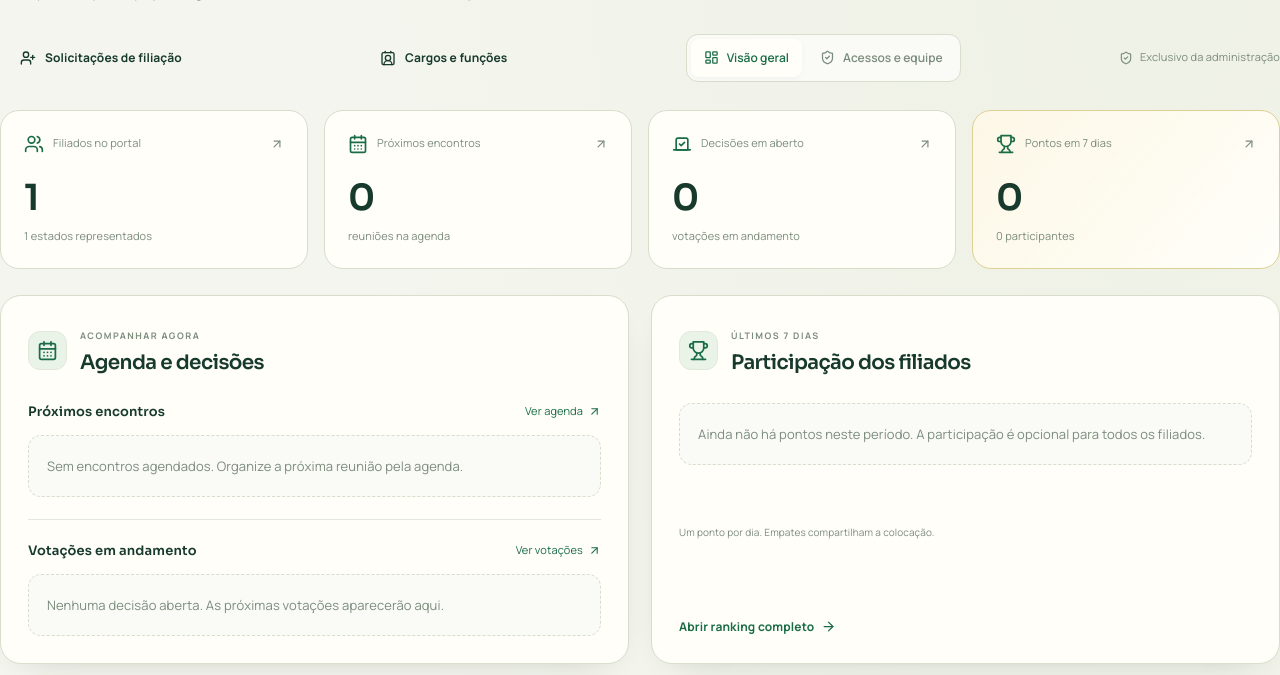
Test case: visão geral reúne ferramentas e permite revisar uma conta sem conceder administração antes de confirmar
Check: the heading "Agenda e decisões" is shown, box [80,348,264,378]
Click the button "Acessos e equipe": coordinates (881, 58) [807,39,956,77]
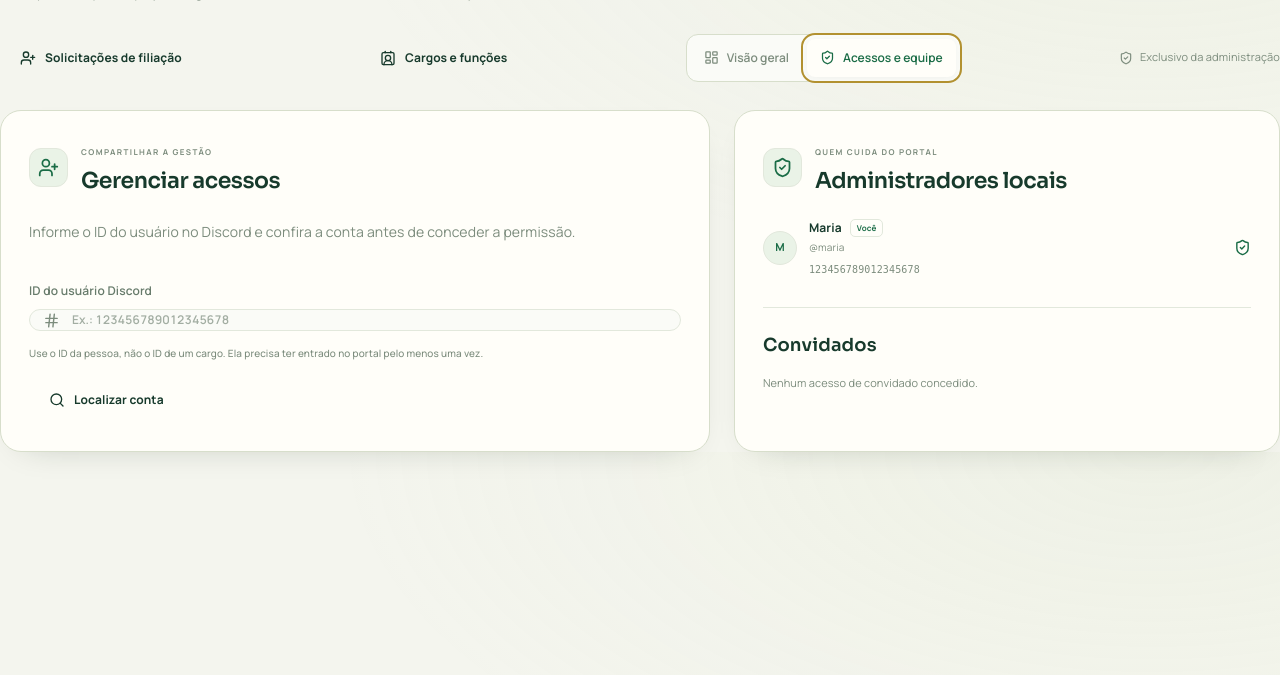
Check: the button "Localizar conta" is enabled, box [29,377,184,423]
In the field labelled "ID do usuário Discord": coordinates (375, 320) [70,310,680,330], type "223456789012345678"
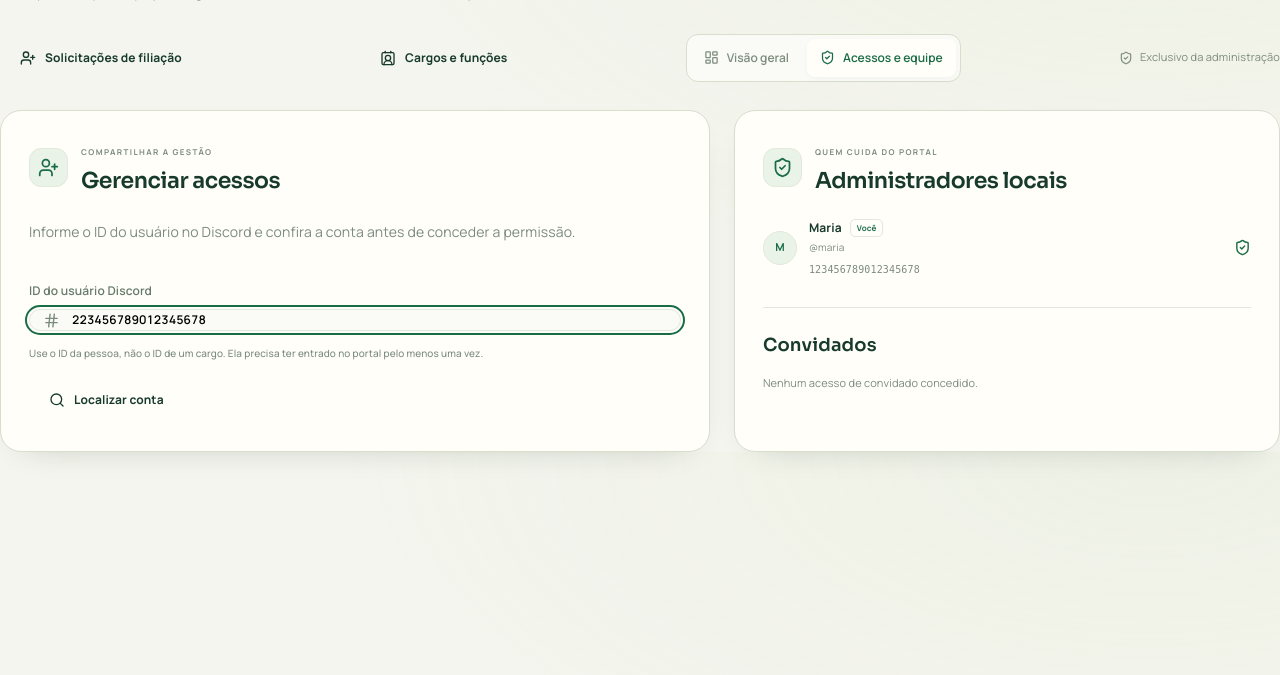
Click the button "Localizar conta": coordinates (106, 400) [29,377,184,423]
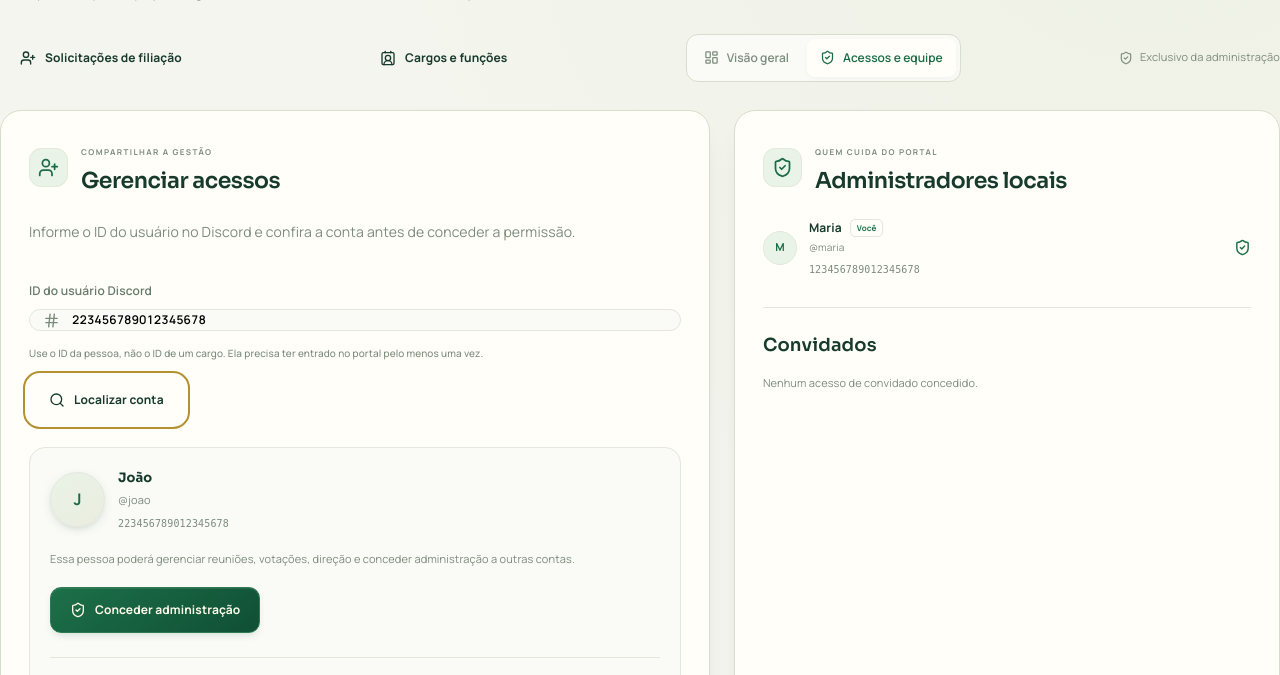
Check: the text "João" is shown, box [118,469,152,486]
Check: the button "Conceder administração" is shown, box [50,587,260,633]
Click the button "Visão geral": coordinates (746, 58) [691,39,802,77]
(page scrolled)
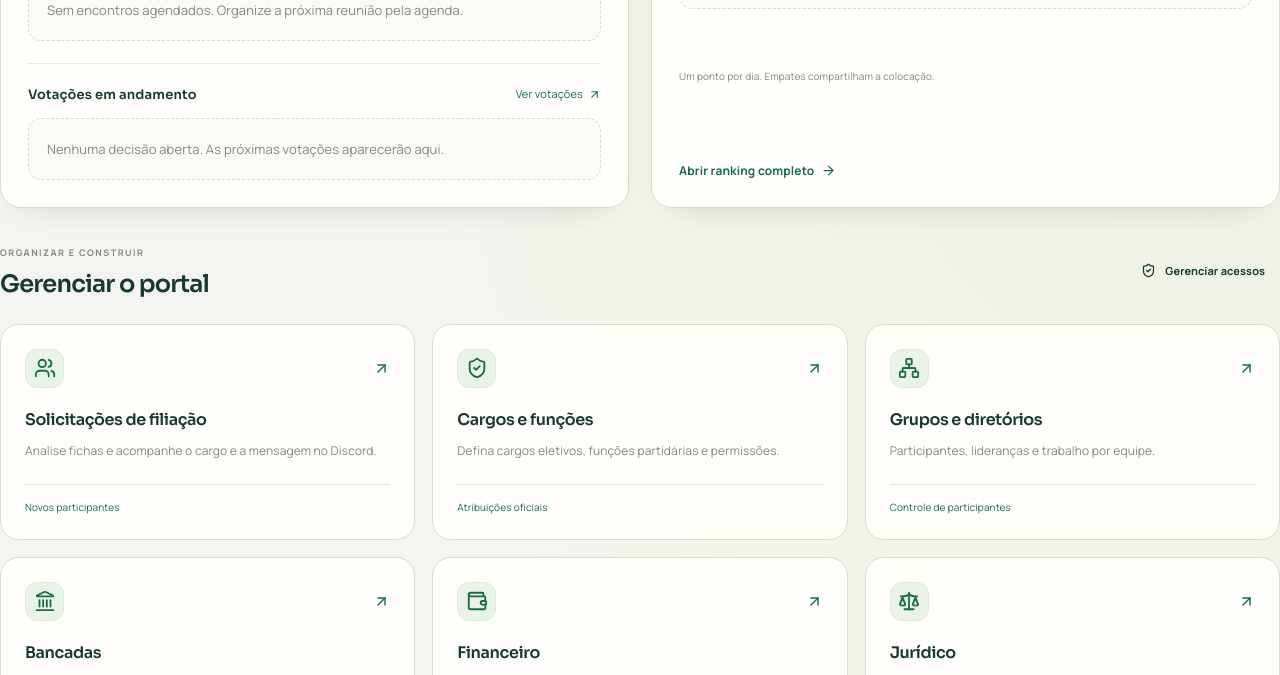
Check: the heading "Gerenciar o portal" is shown, box [0,266,209,302]
